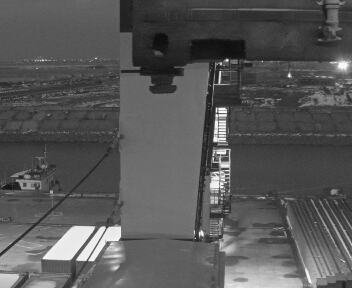twist_lock_1: (132, 59, 190, 103)
